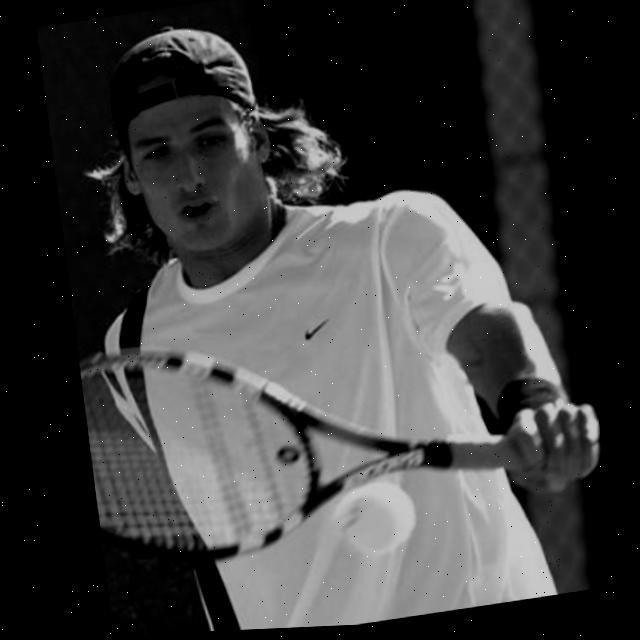face: (103, 68, 292, 273)
